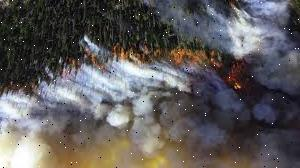fire: (167, 45, 224, 69), (109, 44, 163, 64), (228, 58, 250, 94), (84, 48, 108, 74)
